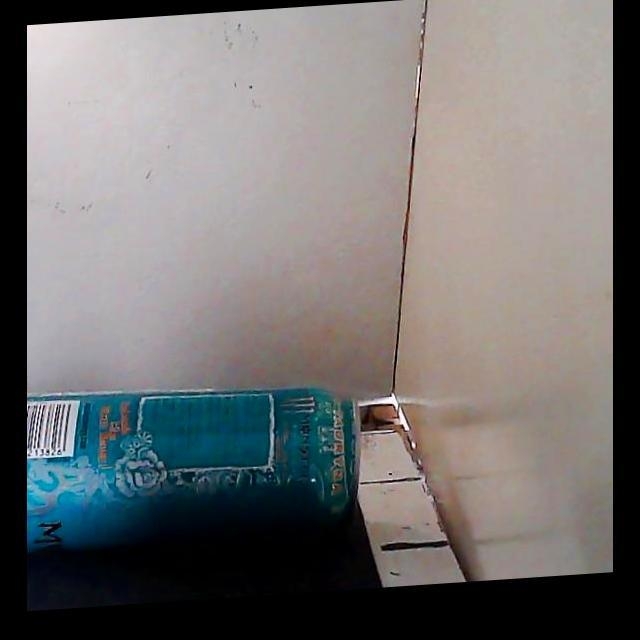metal: (27, 390, 358, 554)
